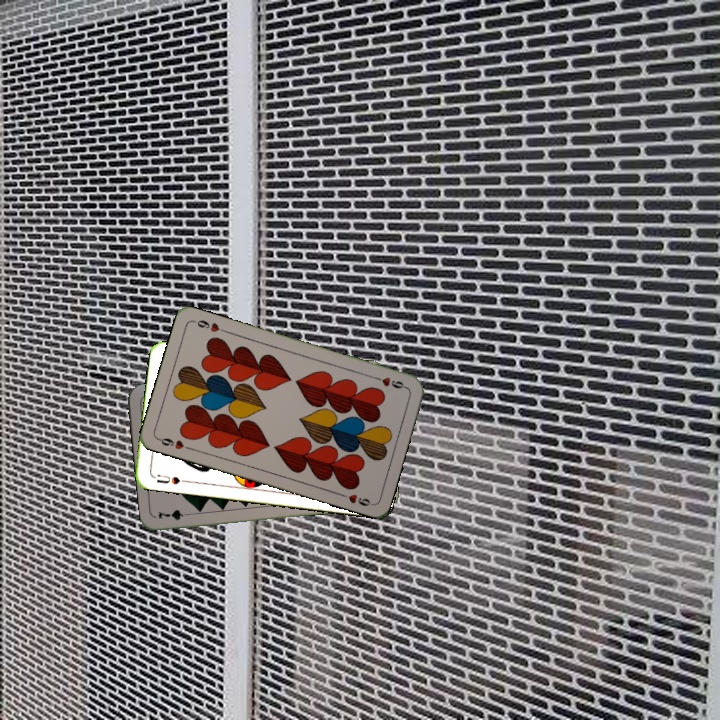G7: (154, 505, 195, 523)
H9: (154, 434, 194, 453), (370, 373, 409, 391)
SU: (153, 470, 190, 487)
